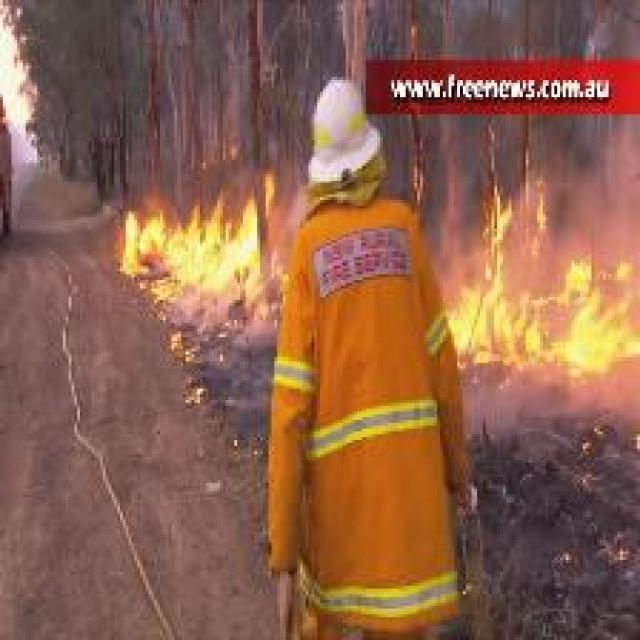Fire: (448, 179, 640, 374), (119, 168, 278, 300)
